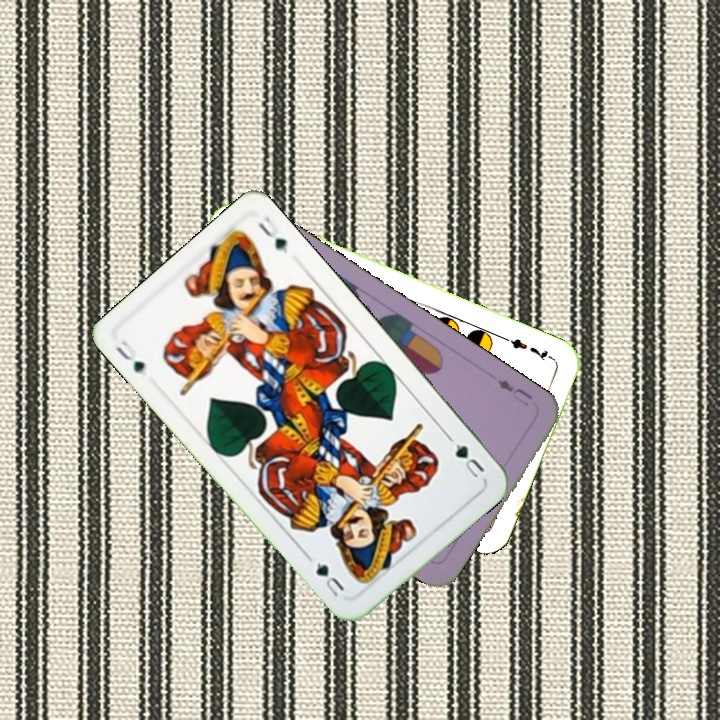E7: (500, 333, 557, 364)
EU: (493, 375, 536, 409)
GU: (451, 439, 488, 481), (110, 336, 148, 376)
